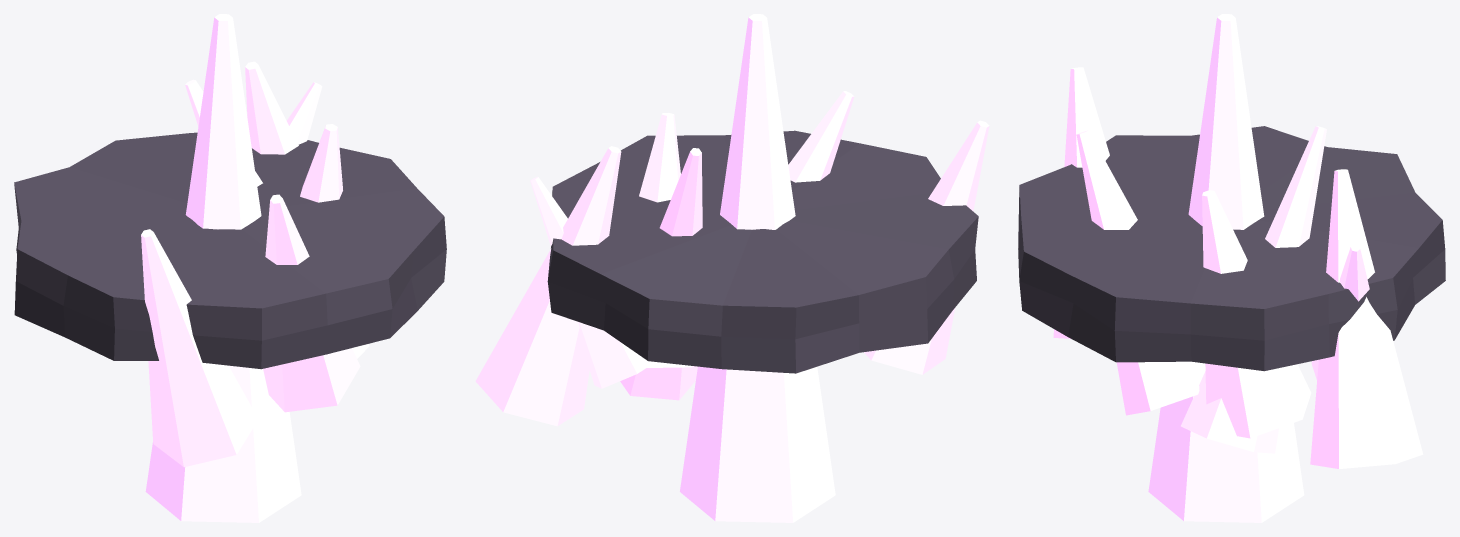
File: crystal_2.glb
3 views of the same model, side by side, from view 1: azimuth 30°, elevation 25°; view 2: azimuth 150°, elevation 25°; view 3: azimuth 270°, elevation 25° (orthographic).
Parts seen in each view (by area): view 1: Cylinder; view 2: Cylinder; view 3: Cylinder.
Part boxes in pixels (x1,y1,x2,y2): Cylinder: (14, 14, 446, 522); Cylinder: (475, 14, 989, 522); Cylinder: (1018, 14, 1445, 522).
Bounding box in the file's own units: 3.17 × 3.7 × 3.01.
